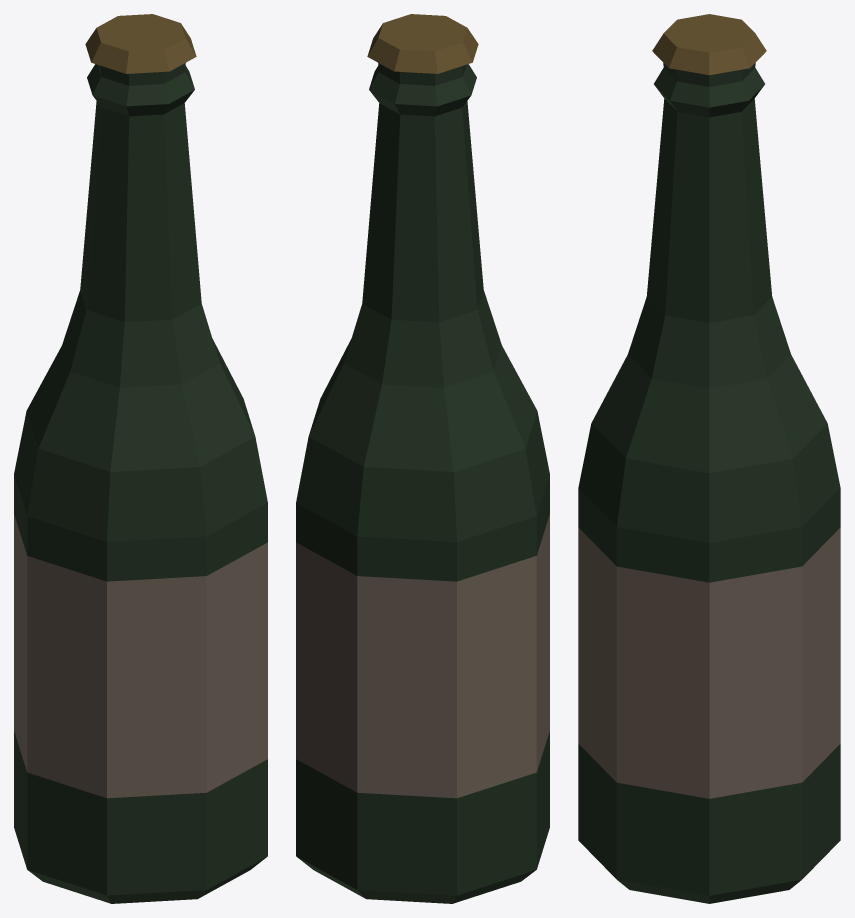
File: bottle.glb
The picture shows the model from 3 angles, left to right: view 1: azimuth 30°, elevation 25°; view 2: azimuth 150°, elevation 25°; view 3: azimuth 270°, elevation 25°; orthographic projection.
Visible parts, largest first — view 1: bottle; view 2: bottle; view 3: bottle.
Part boxes in pixels (box(x1,y1,x2,y2)): bottle: box(14, 14, 267, 903); bottle: box(296, 14, 549, 903); bottle: box(578, 14, 840, 903).
Bounding box in the file's own units: 0.0866 × 0.3 × 0.0866.
